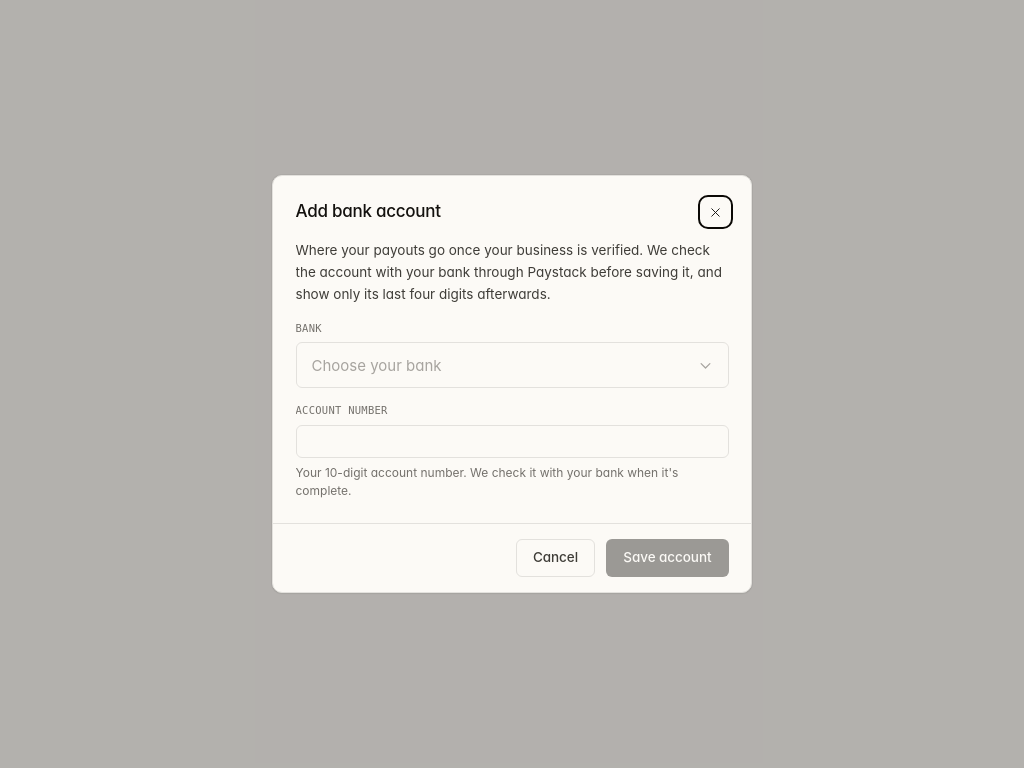
Scenario: AddBankAccountModal › offers a retry when Paystack can't be reached
Click the button "Choose your bank" at coordinates (377, 365), box [296,342,728,388]
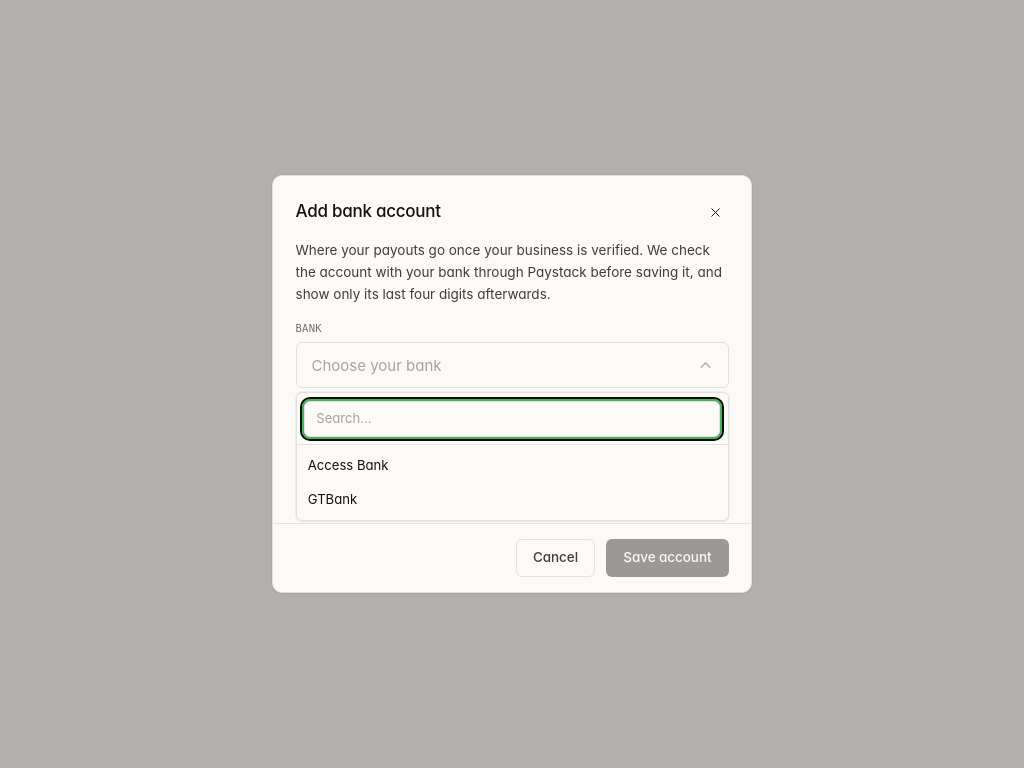
Press the mouse on the list item "Access Bank" at coordinates (348, 465), box [308,457,389,473]
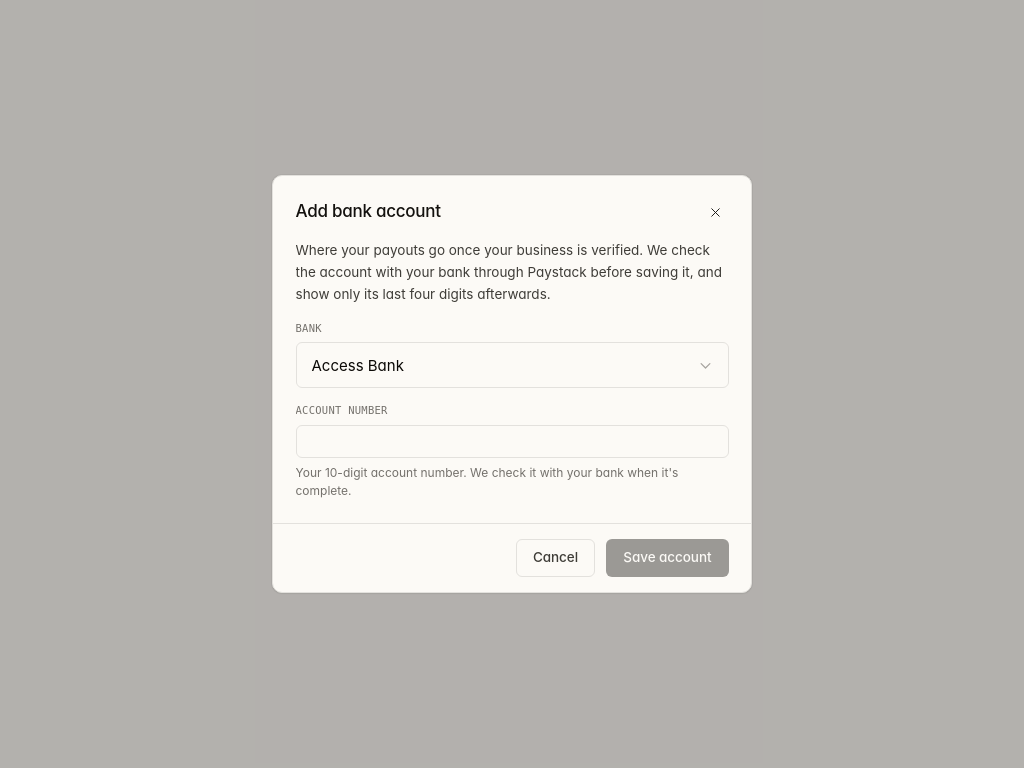
Type "0123456789" into the field labelled "Account number" at coordinates (512, 442), box [296,425,728,458]
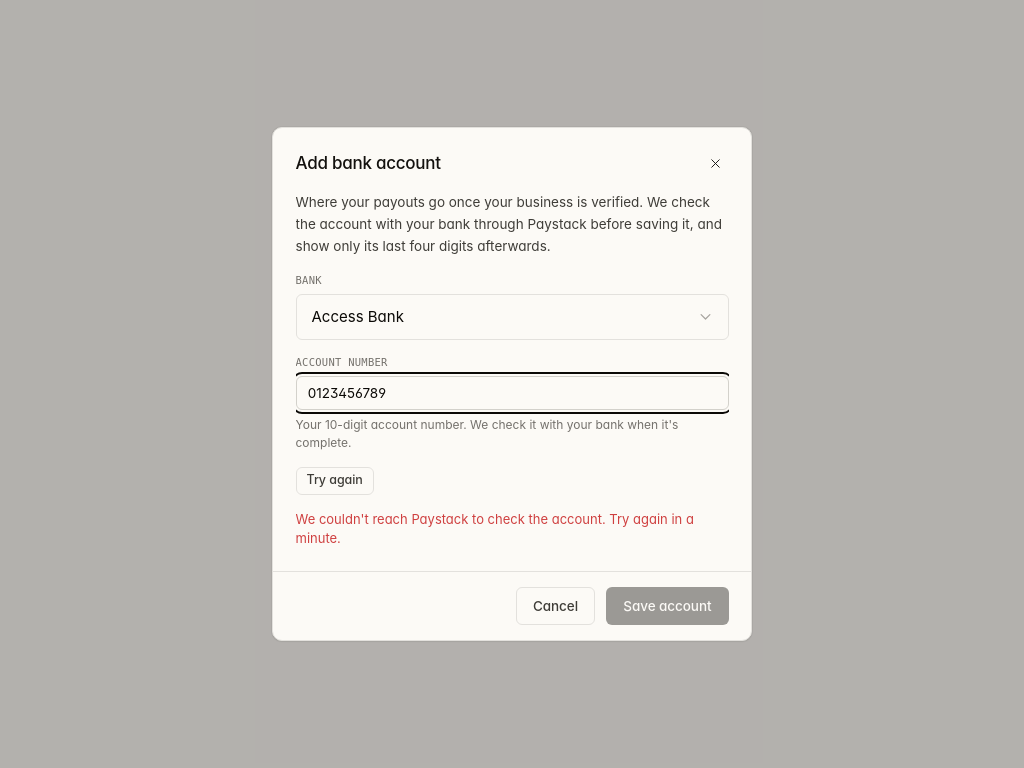
Result: the message shows "couldn't reach Paystack" at [296,510,694,546]
Click the button "Try again" at coordinates (335, 480), box [296,466,374,494]
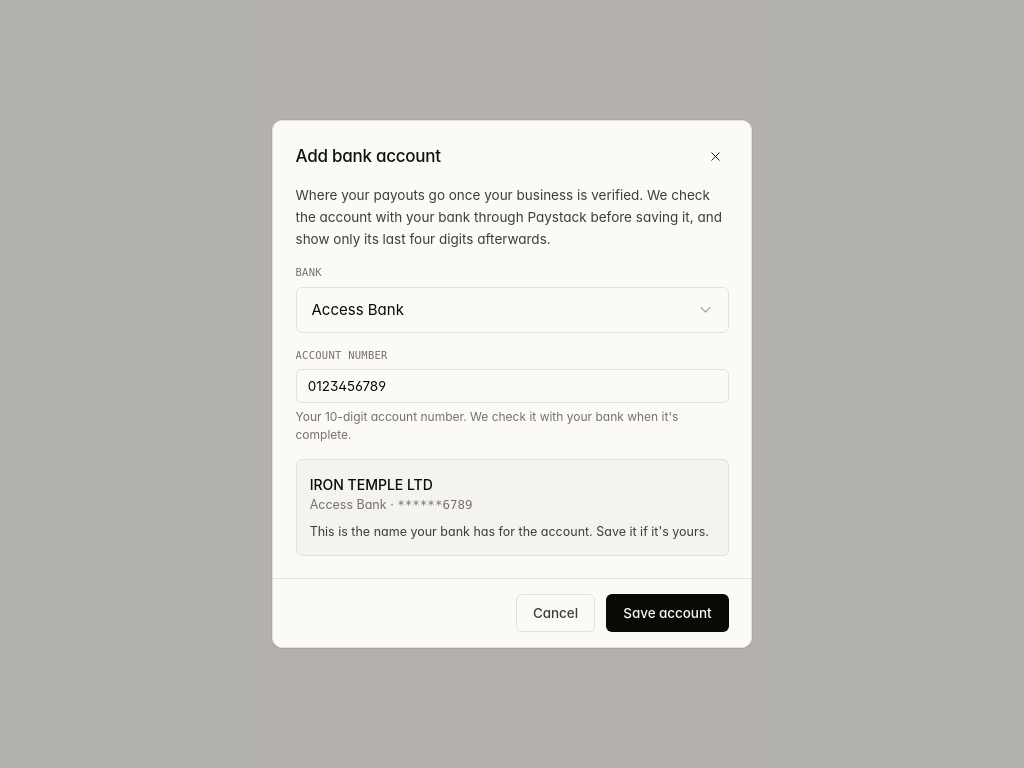
Result: the message named "Account found" is shown at [296,460,728,556]
